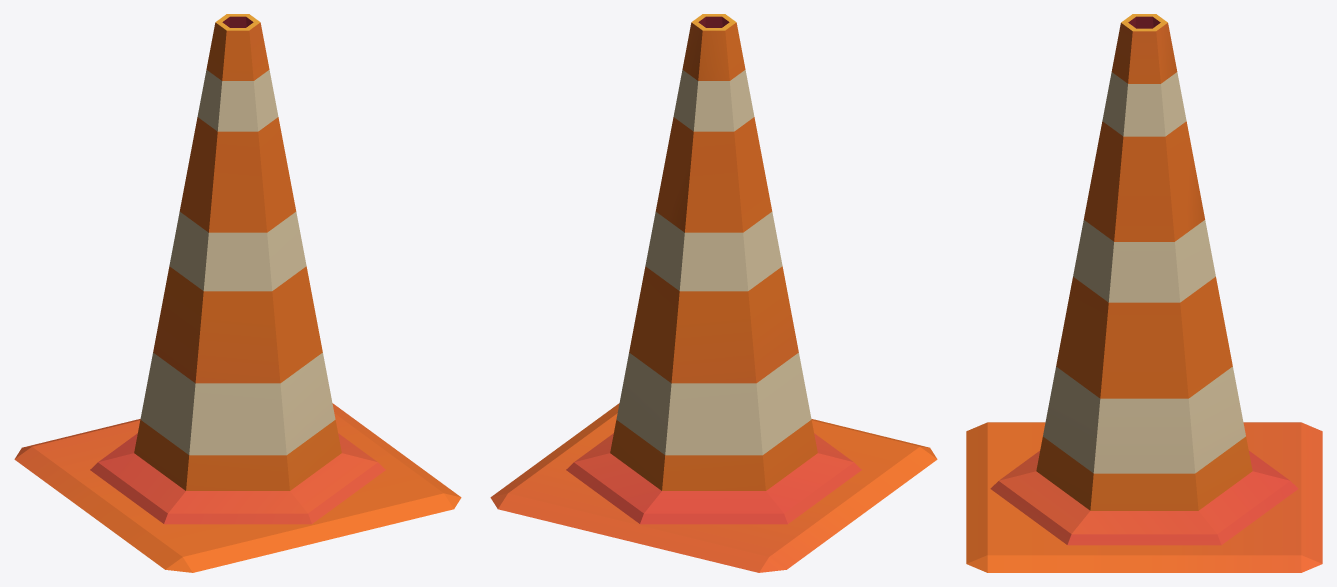
3 renders of one model, left to right at view 1: azimuth 30°, elevation 25°; view 2: azimuth 150°, elevation 25°; view 3: azimuth 270°, elevation 25°, orthographic. The views are drawn at different scales.
Parts seen in each view (by area): view 1: Cone; view 2: Cone; view 3: Cone.
Part boxes in pixels (x1,y1,x2,y2): Cone: [14, 14, 461, 572]; Cone: [490, 14, 937, 572]; Cone: [966, 14, 1322, 572].
Size of the model in its own units: 58.96 by 58.96 by 86.71.
